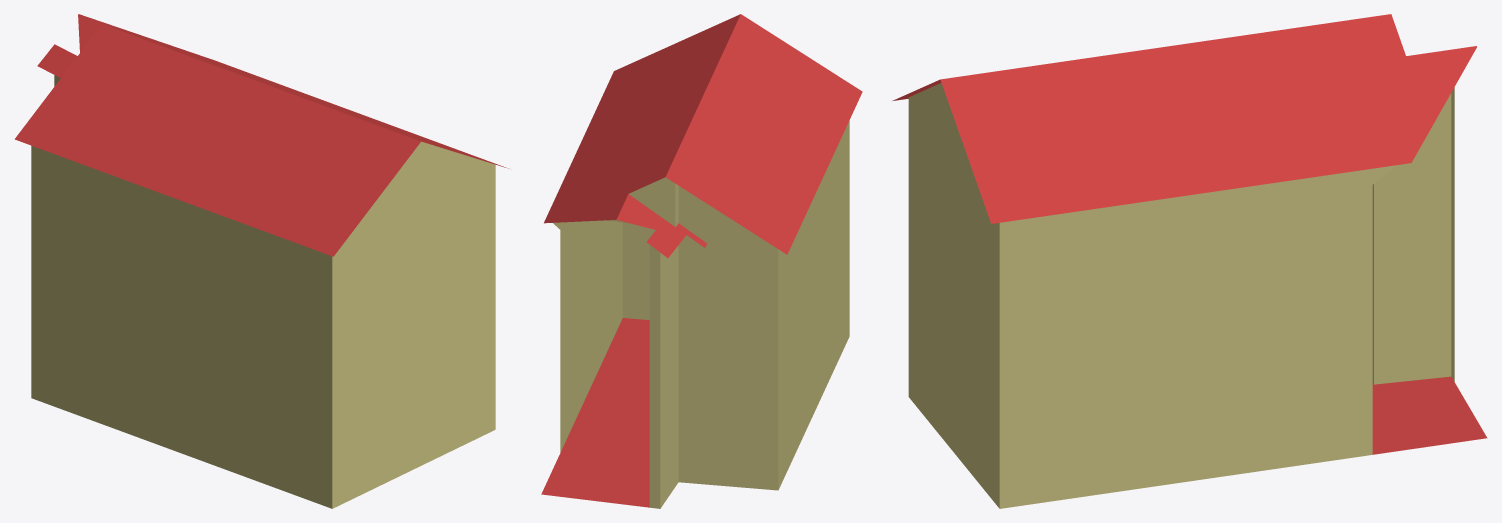
3 views of the same model, side by side, from view 1: azimuth 30°, elevation 25°; view 2: azimuth 150°, elevation 25°; view 3: azimuth 270°, elevation 25° (orthographic). The views are drawn at different scales.
Size of the model in its own units: 16.35 by 21.88 by 15.15.
